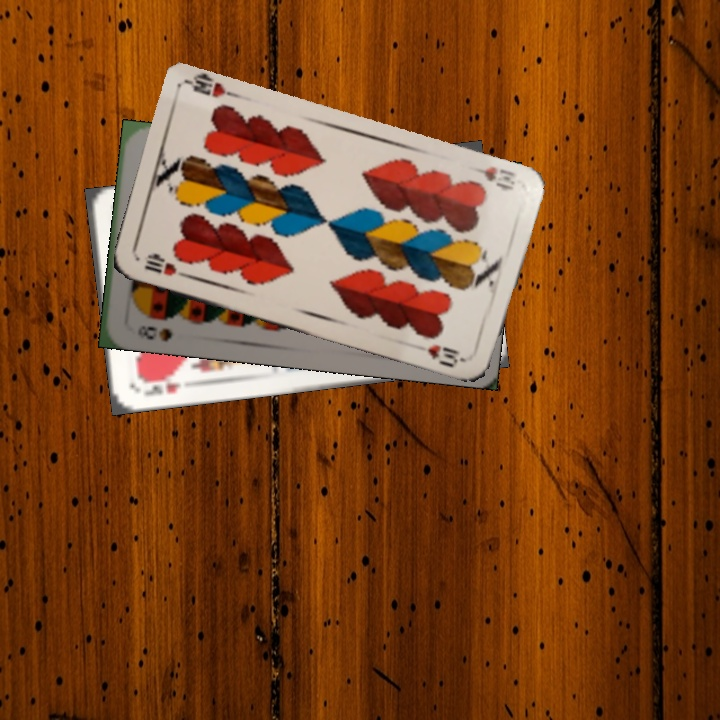H10: (464, 161, 518, 193), (140, 252, 191, 280)
HK: (139, 378, 184, 399)
S8: (134, 321, 175, 344)
